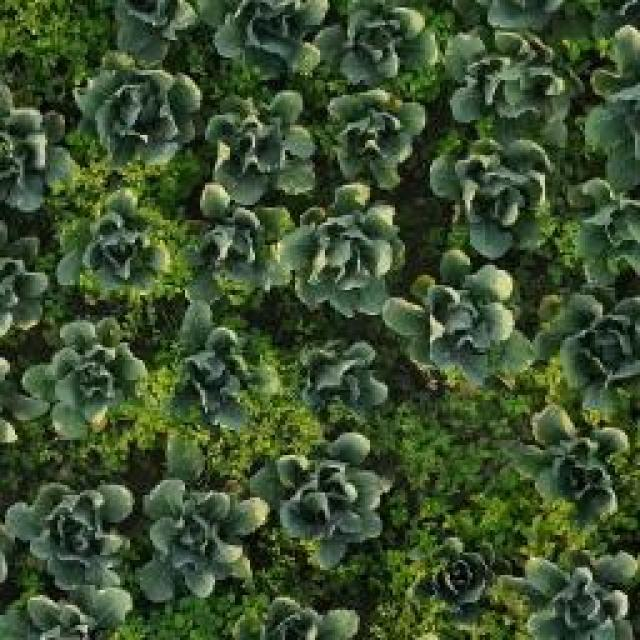cabbage: (142, 479, 268, 608), (262, 438, 396, 558), (427, 134, 557, 253), (286, 196, 409, 316), (390, 257, 514, 376), (5, 481, 134, 591), (81, 58, 200, 171), (35, 312, 145, 432), (204, 92, 319, 202), (526, 402, 629, 520), (449, 26, 568, 124), (164, 326, 268, 433), (57, 199, 166, 301), (323, 88, 424, 190), (184, 206, 292, 300), (525, 555, 640, 640), (297, 336, 396, 434), (545, 291, 640, 385), (333, 2, 444, 82), (216, 0, 322, 76), (421, 538, 503, 618)
